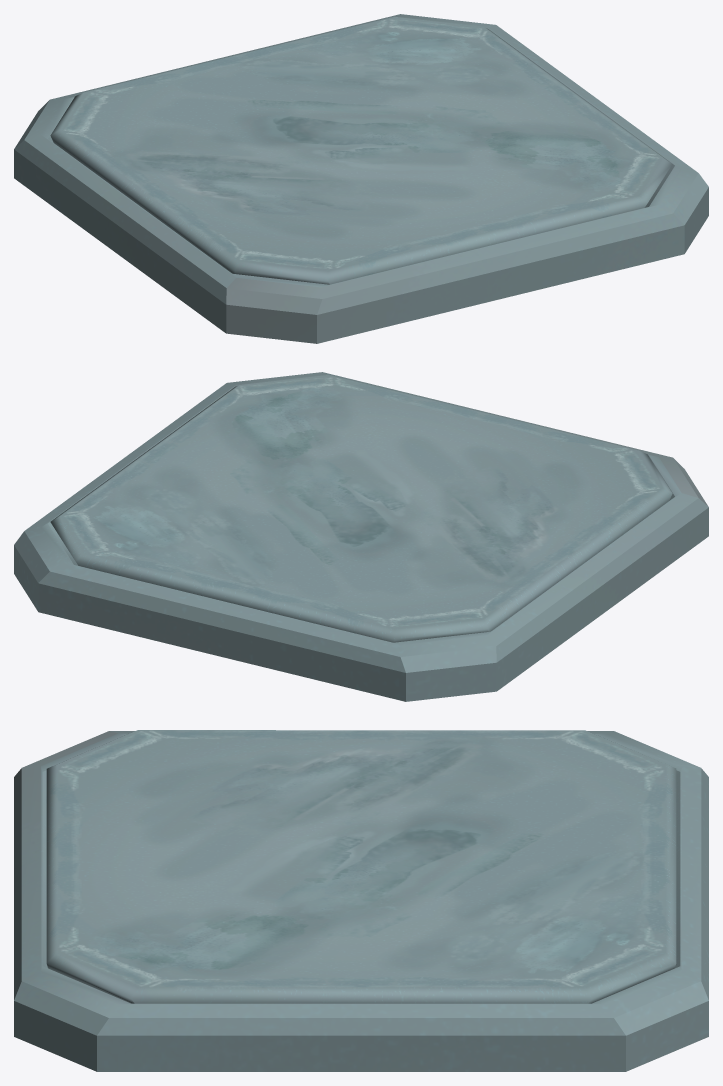
File: Pillar platform.fbx
3 renders of one model, top to bottom at view 1: azimuth 30°, elevation 25°; view 2: azimuth 150°, elevation 25°; view 3: azimuth 270°, elevation 25°, orthographic. The views are drawn at different scales.
Parts seen in each view (by area): view 1: floor1; view 2: floor1; view 3: floor1.
Part boxes in pixels (x1,y1,x2,y2): floor1: (14,14,708,343); floor1: (14,372,708,701); floor1: (14,730,708,1071).
Bounding box in the file's own units: 1.75 × 0.1841 × 1.75.
